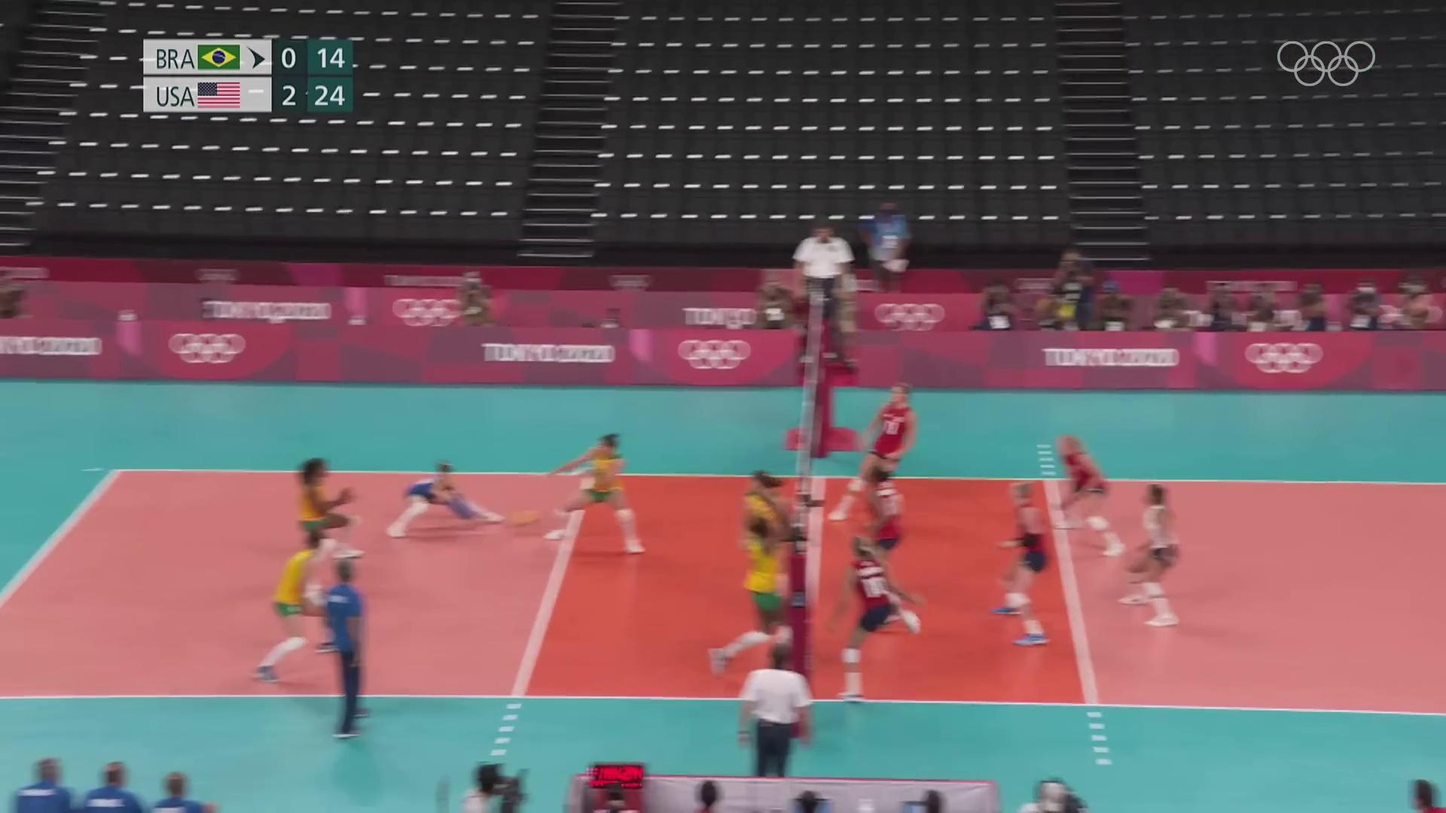player: (711, 518, 803, 674), (256, 529, 348, 685), (834, 541, 919, 708), (543, 435, 653, 554), (289, 458, 366, 610), (833, 381, 917, 520), (847, 463, 913, 639), (989, 481, 1054, 649), (1041, 436, 1127, 559), (738, 465, 796, 633), (1121, 485, 1184, 627), (387, 464, 502, 538)
refree: (738, 647, 818, 785), (795, 220, 856, 367)
